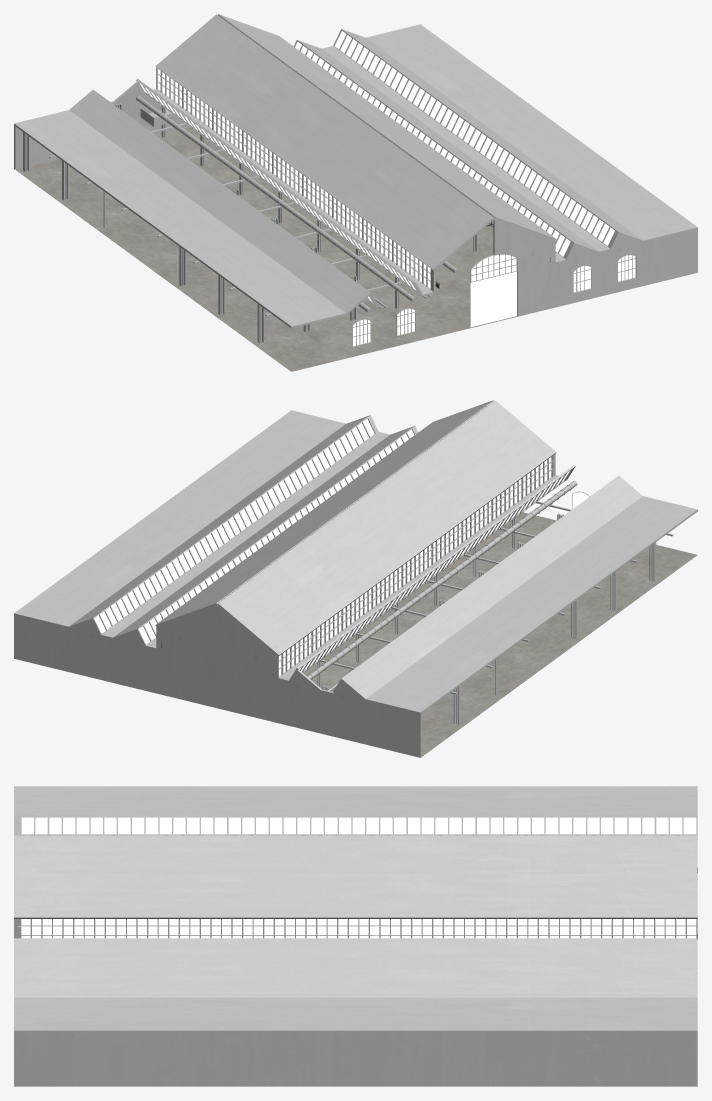
File: Floor1.glb
3 views of the same model, one above another, from view 1: azimuth 30°, elevation 25°; view 2: azimuth 150°, elevation 25°; view 3: azimuth 270°, elevation 25° (orthographic). The views are drawn at different scales.
Parts seen in each view (by area): view 1: Floor, color[14], color, color[6], color[5], color[13], color[247], color[208], color[190], color[7], color[186], color[152] (+13 smaller); view 2: Floor, color[14], color, color[6], color[5], color[293], color[292], color[13], color[208], color[190], color[7], color[186] (+13 smaller); view 3: color[15], color[152], color[186], color, color[210], color[14], color[2], color[189], color[234], color[188], color[12], color[1] (+2 smaller).
Part boxes in pixels (bbox=[...]): Floor: bbox=[15, 127, 517, 371]; color[14]: bbox=[14, 110, 346, 328]; color: bbox=[366, 24, 697, 242]; color[6]: bbox=[155, 39, 466, 270]; color[5]: bbox=[188, 14, 494, 242]; color[13]: bbox=[69, 91, 369, 314]; color[247]: bbox=[493, 219, 697, 316]; color[208]: bbox=[335, 31, 614, 245]; color[190]: bbox=[158, 69, 430, 288]; color[7]: bbox=[156, 68, 436, 293]; color[186]: bbox=[217, 14, 523, 228]; color[152]: bbox=[247, 24, 556, 240]; Floor: bbox=[303, 512, 697, 756]; color[14]: bbox=[365, 496, 697, 714]; color: bbox=[14, 410, 345, 628]; color[6]: bbox=[246, 425, 556, 656]; color[5]: bbox=[217, 400, 523, 628]; color[293]: bbox=[217, 606, 421, 757]; color[292]: bbox=[14, 605, 217, 707]; color[13]: bbox=[342, 477, 642, 700]; color[208]: bbox=[94, 418, 374, 633]; color[190]: bbox=[279, 457, 551, 675]; color[7]: bbox=[276, 454, 555, 679]; color[186]: bbox=[188, 400, 494, 614]; color[15]: bbox=[17, 1033, 694, 1086]; color[152]: bbox=[14, 874, 697, 918]; color[186]: bbox=[14, 835, 697, 873]; color: bbox=[14, 997, 697, 1032]; color[210]: bbox=[14, 967, 697, 997]; color[14]: bbox=[14, 786, 697, 815]; color[2]: bbox=[14, 940, 697, 964]; color[189]: bbox=[17, 919, 696, 938]; color[234]: bbox=[21, 817, 696, 834]; color[188]: bbox=[14, 919, 697, 938]; color[12]: bbox=[14, 815, 697, 834]; color[1]: bbox=[14, 938, 697, 940].
Bounding box in the file's own units: 44 × 10.87 × 52.03.
Materials: 5 (4 with a texture image).
